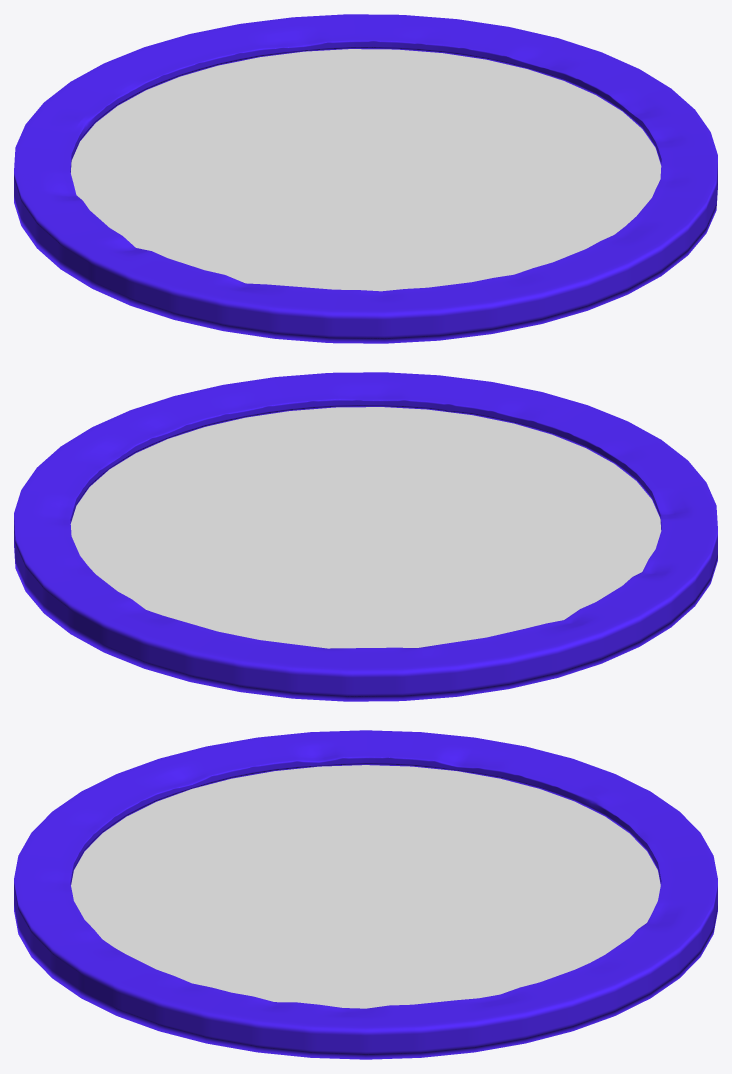
File: Trampoline.fbx
3 renders of one model, top to bottom at view 1: azimuth 30°, elevation 25°; view 2: azimuth 150°, elevation 25°; view 3: azimuth 270°, elevation 25°, orthographic.
Parts seen in each view (by area): view 1: Cylinder.001, Cylinder; view 2: Cylinder.001, Cylinder; view 3: Cylinder.001, Cylinder.
Boxes of the visible parts, x1,y1,x2,y2 form: Cylinder.001: [71, 49, 661, 291]; Cylinder: [14, 14, 717, 343]; Cylinder.001: [70, 407, 661, 648]; Cylinder: [14, 372, 717, 701]; Cylinder.001: [71, 765, 660, 1008]; Cylinder: [14, 730, 717, 1059].
Bounding box in the file's own units: 800 × 40 × 800.
